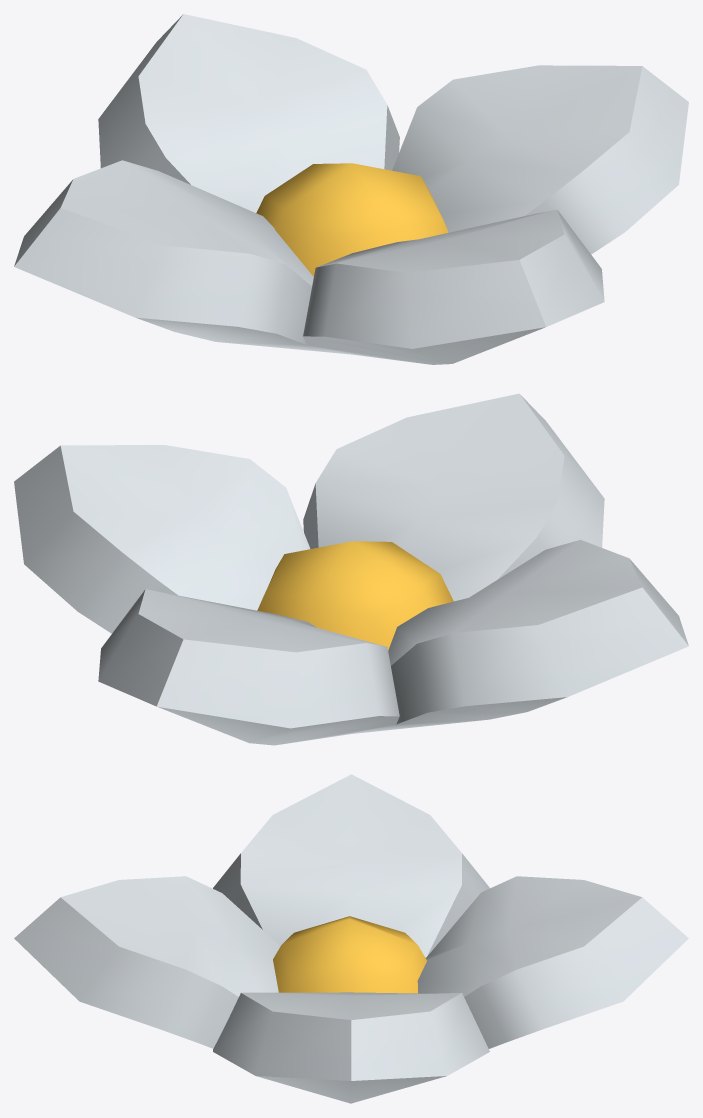
File: flower_A.fbx
3 renders of one model, top to bottom at view 1: azimuth 30°, elevation 25°; view 2: azimuth 150°, elevation 25°; view 3: azimuth 270°, elevation 25°, orthographic. The views are drawn at different scales.
Parts seen in each view (by area): view 1: flower_A; view 2: flower_A; view 3: flower_A.
Boxes of the visible parts, x1,y1,x2,y2 form: flower_A: (14, 14, 688, 364); flower_A: (14, 393, 688, 745); flower_A: (14, 774, 688, 1103).
Bounding box in the file's own units: 0.4491 × 0.1383 × 0.4491.
